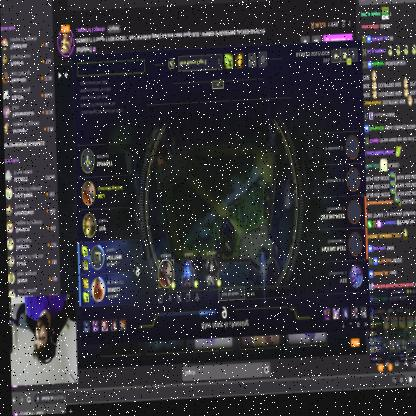streamer: (23, 296, 67, 365)
